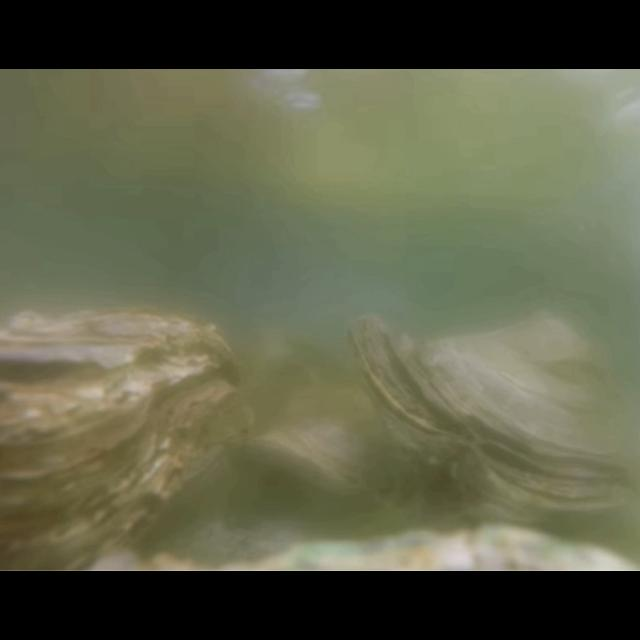Oyster-Closed: (1, 308, 256, 570), (345, 311, 639, 521), (248, 388, 410, 510)
